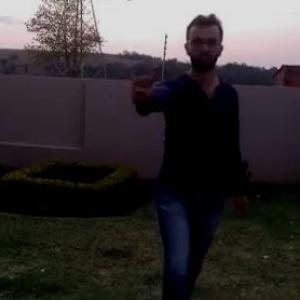takeoff-hand: (118, 64, 154, 102)
